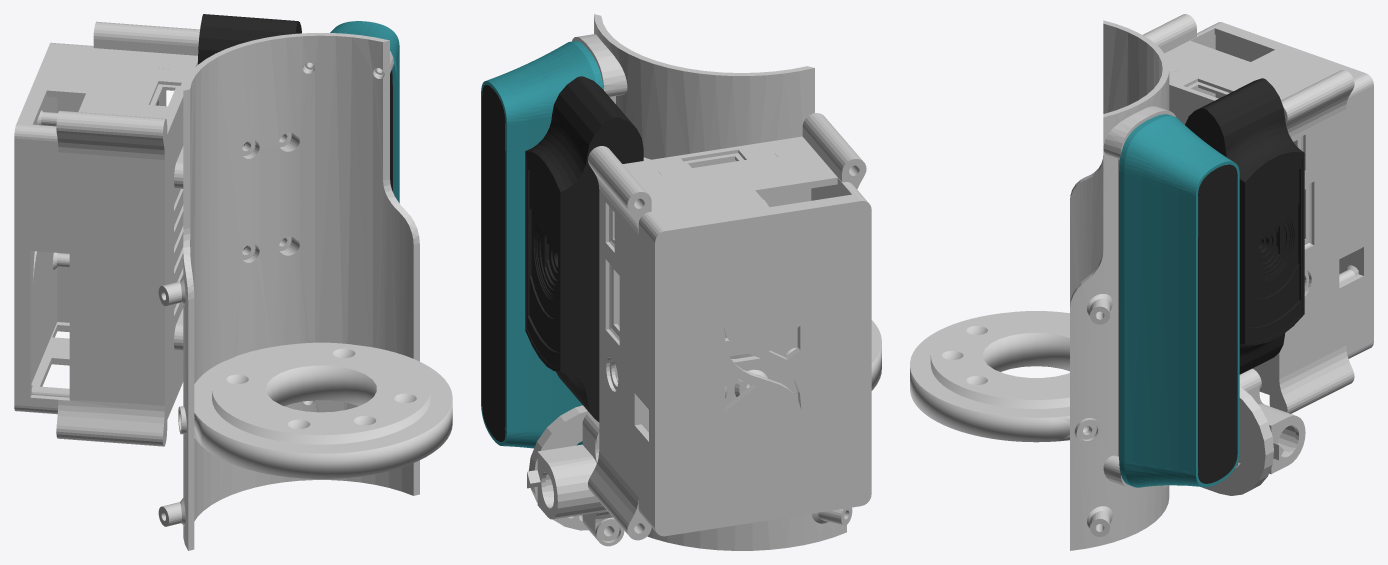
Rendered from egomo-1.dae.
3 renders of one model, left to right at view 1: azimuth 30°, elevation 25°; view 2: azimuth 150°, elevation 25°; view 3: azimuth 270°, elevation 25°, orthographic. The views are drawn at different scales.
Parts seen in each view (by area): view 1: base, rpi_housing, sensorkopf, camera_c920, Sensor; view 2: rpi_housing, base, Sensor, camera_c920, laser, sensorkopf; view 3: Sensor, rpi_housing, base, camera_c920, sensorkopf, laser.
Boxes of the visible parts, x1,y1,x2,y2 form: base: (158,33,419,550); rpi_housing: (14,21,199,446); sensorkopf: (194,342,452,478); camera_c920: (198,14,301,64); Sensor: (330,21,399,202); rpi_housing: (588,113,871,540); base: (528,14,852,550); Sensor: (481,40,603,448); camera_c920: (525,76,643,422); laser: (527,412,624,546); sensorkopf: (871,320,881,390); Sensor: (1119,114,1239,487); rpi_housing: (1143,14,1373,413); base: (1070,20,1273,550); camera_c920: (1185,78,1304,374); sensorkopf: (910,311,1089,442); laser: (1236,368,1305,474).
Bounding box in the file's own units: 0.1247 × 0.1386 × 0.141.
